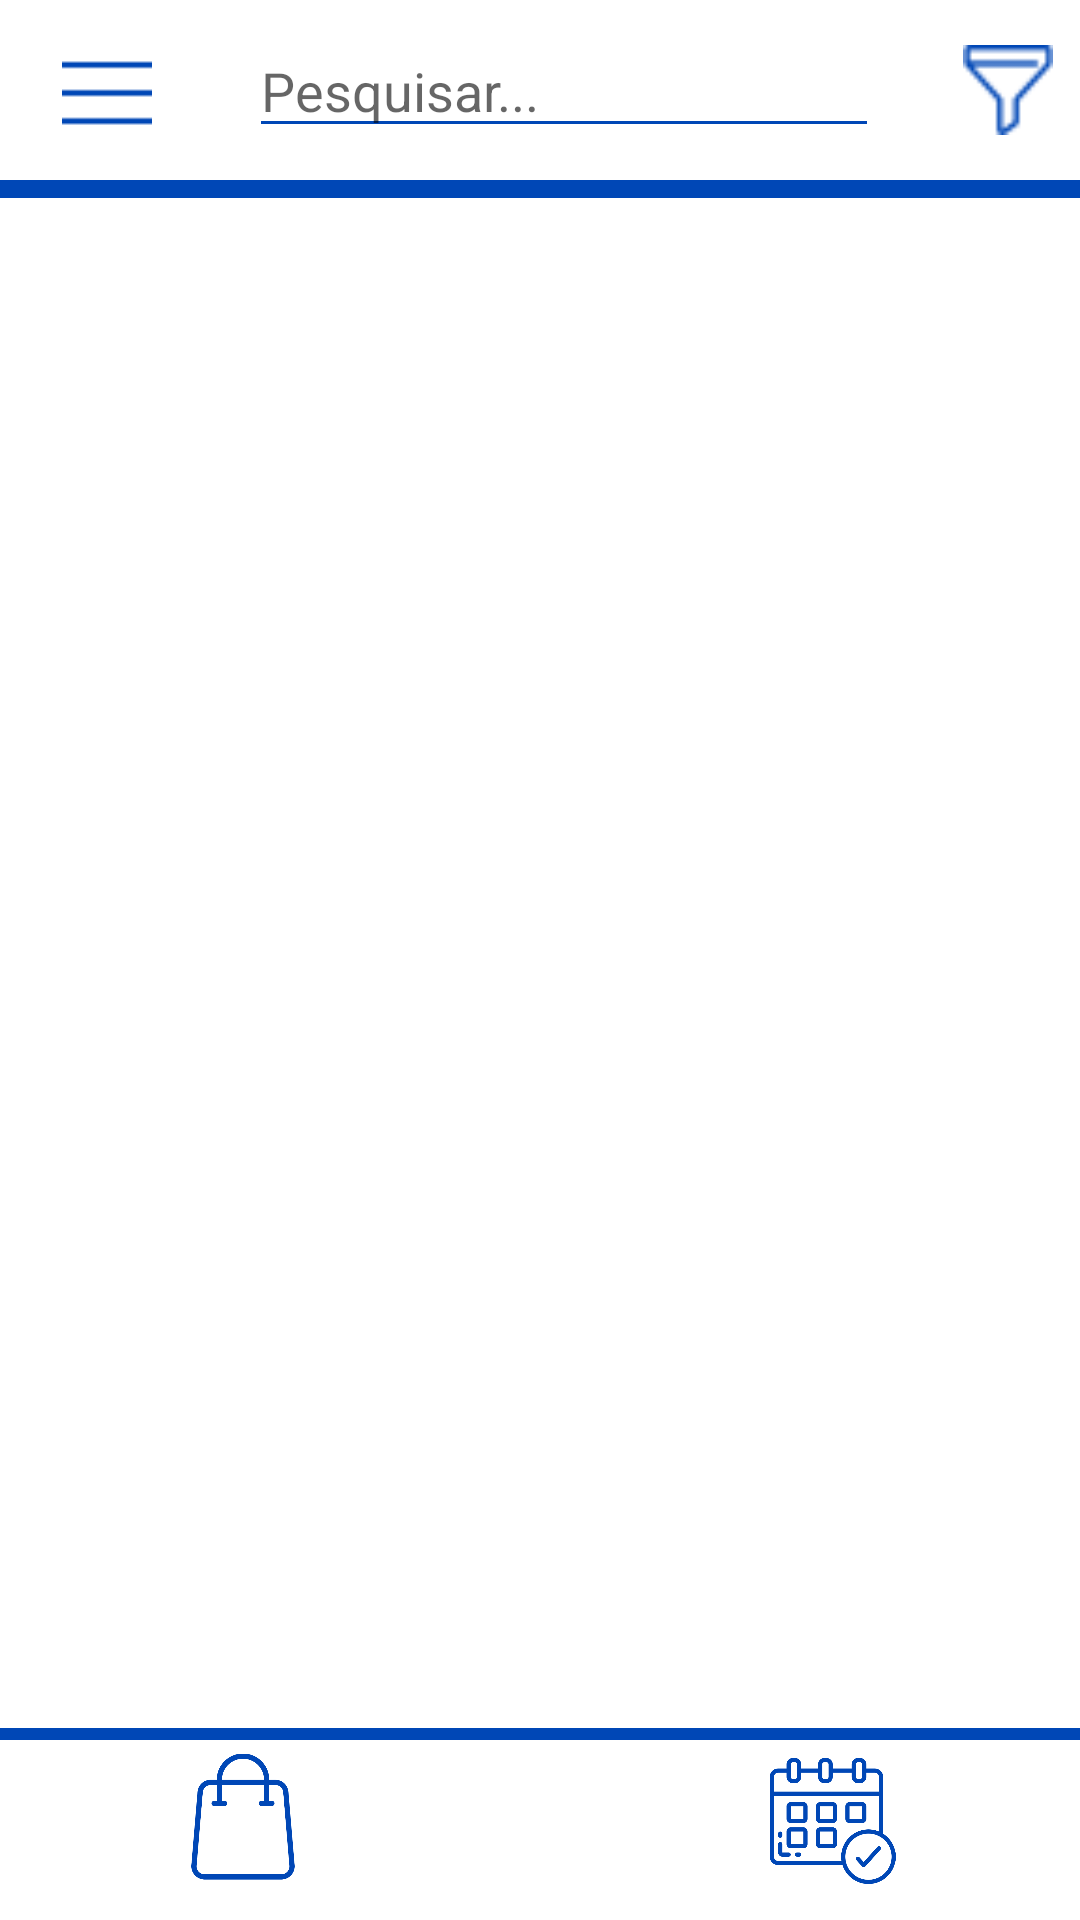

Icon bounding boxes for this 1080×1920 phone screenshot, format (x1, y1, x2, y2):
bolsa de compras: (191, 1754, 295, 1880)
data limite: (770, 1758, 896, 1884)
filtro: (963, 45, 1053, 135)
menu: (62, 61, 152, 125)
